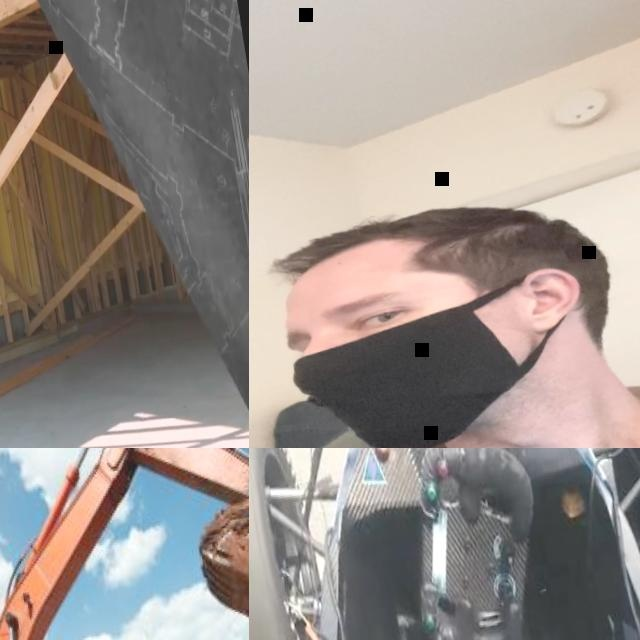Mask: (274, 280, 571, 448)
NO-Hardhat: (264, 185, 585, 298)
Person: (249, 144, 640, 448)
machinery: (0, 448, 249, 640)
vehicle: (249, 448, 640, 640)
